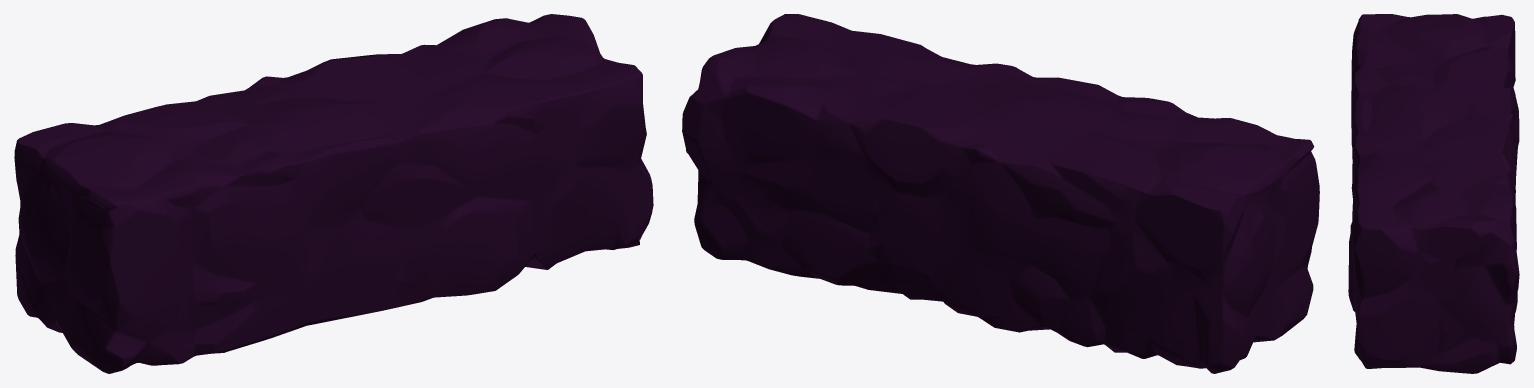
Rendered from SM_RockBlock_Long_01.fbx.
3 renders of one model, left to right at view 1: azimuth 30°, elevation 25°; view 2: azimuth 150°, elevation 25°; view 3: azimuth 270°, elevation 25°, orthographic. The views are drawn at different scales.
Visible parts, largest first — view 1: Cube; view 2: Cube; view 3: Cube.
Boxes of the visible parts, x1,y1,x2,y2 form: Cube: [14, 14, 653, 373]; Cube: [682, 14, 1319, 373]; Cube: [1348, 14, 1519, 373].
Size of the model in its own units: 646 by 215 by 211.
1 material, 1 textured.
